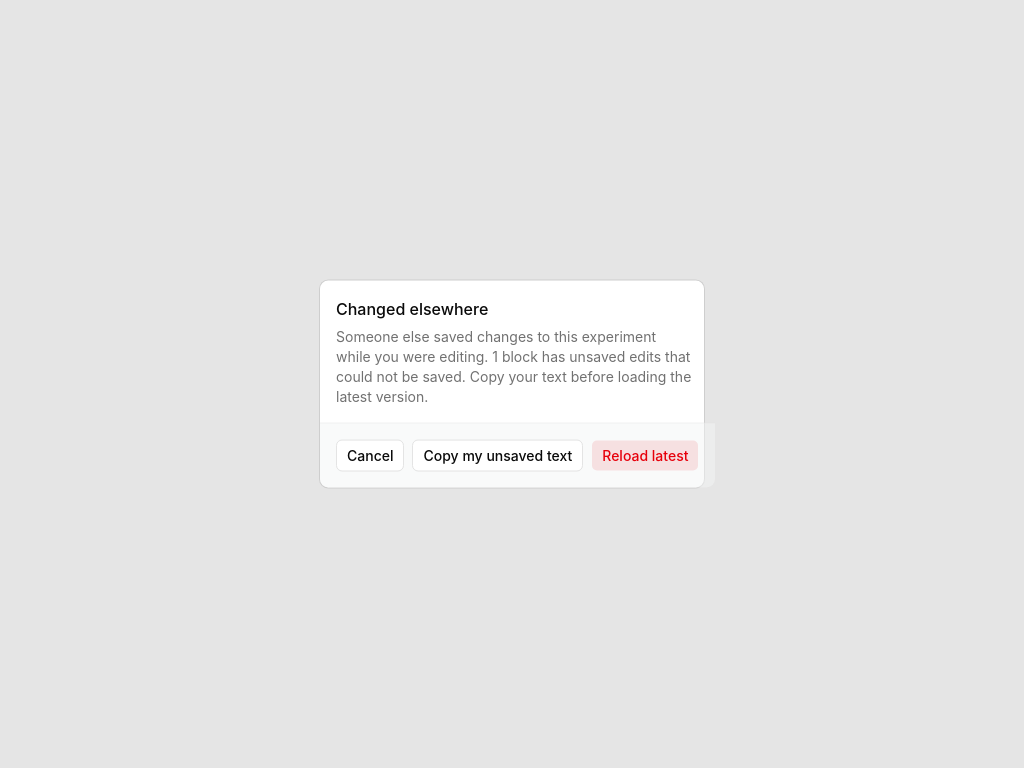
Scenario: SaveConflictDialog › requires a second confirmation before discarding local edits
Later steps or results of the test are not shown.
Click the button "Reload latest". click: (645, 456)
box: [591,440,700,472]
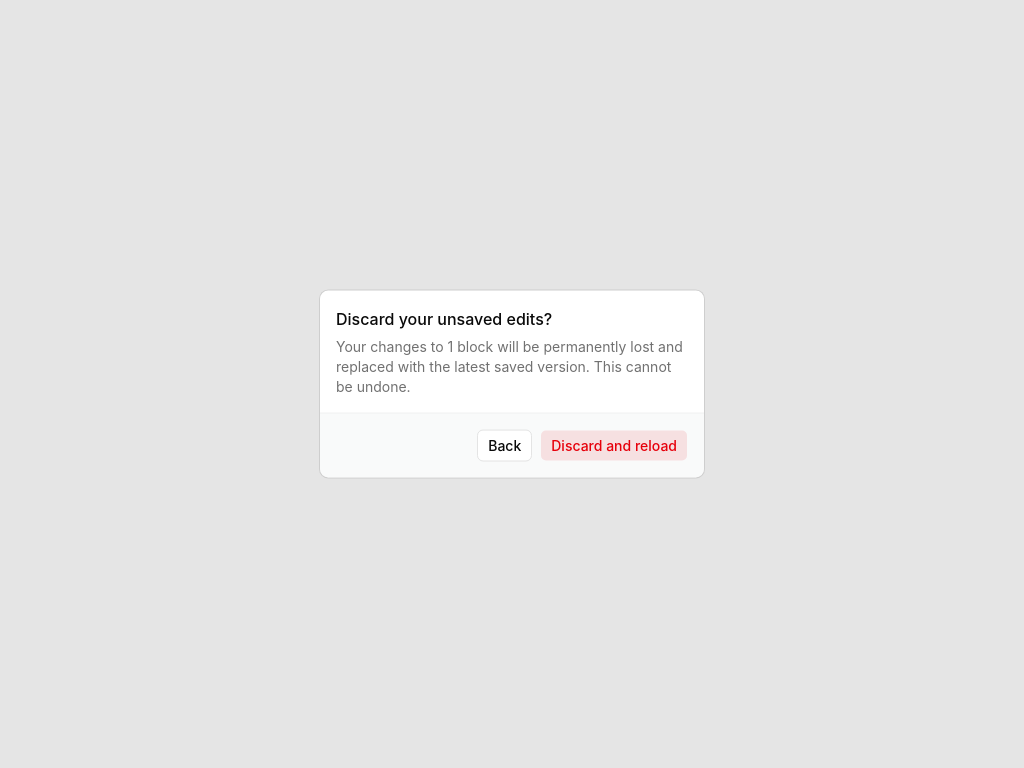
Check: the heading "Discard your unsaved edits?" is shown, box [336,306,552,330]
Click the button "Back". click: (505, 446)
box: [477,430,532,462]
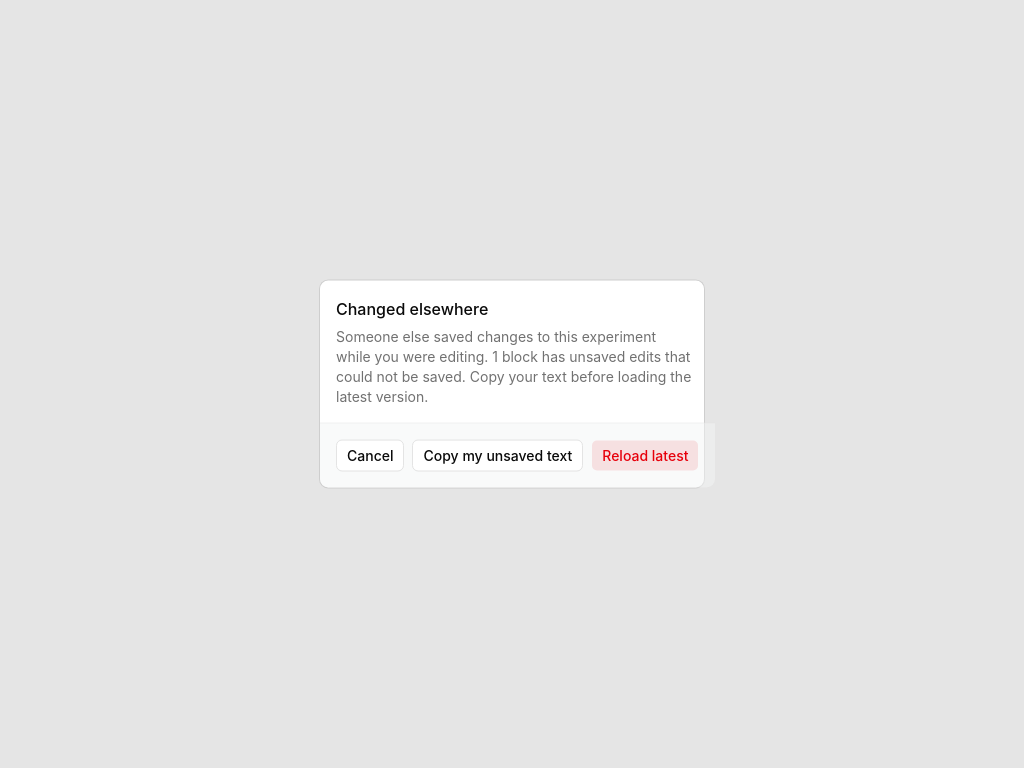
Check: the button "Reload latest" is shown, box [591,440,700,472]
